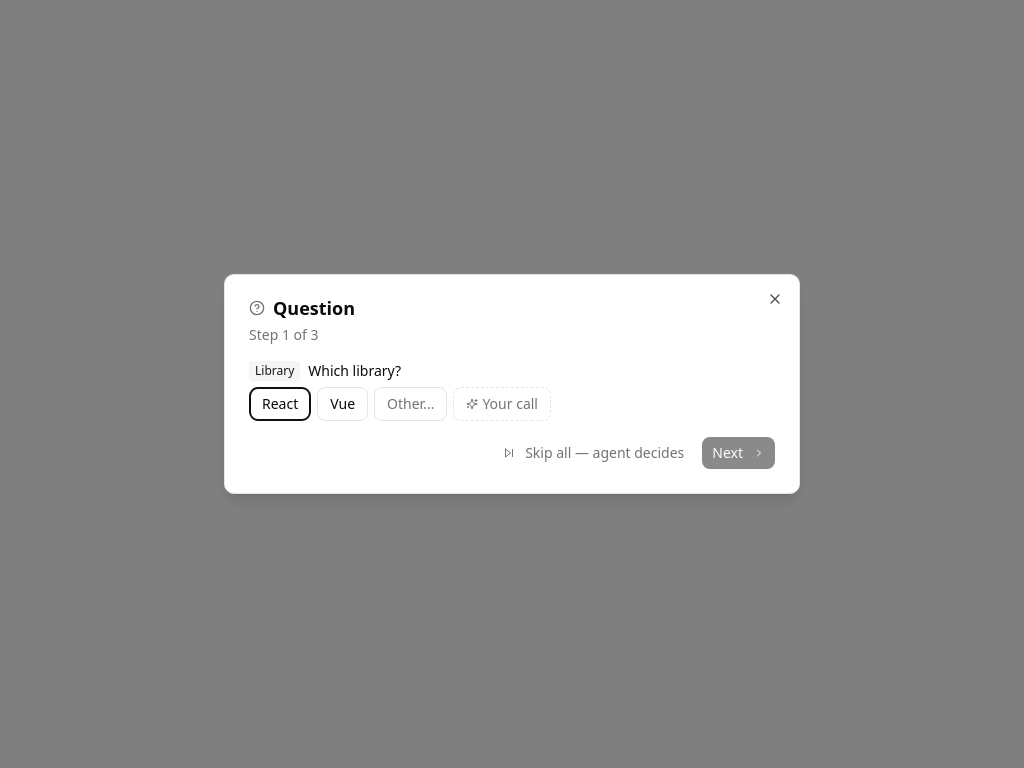
Scenario: AskUserDialog › wizard mode (3+ questions) › Next button is disabled until question is answered
The image size is (1024, 768).
Expected: the button "Next" is disabled, [702, 437, 775, 469]
Click the button "React".
click(280, 404)  # box [249, 387, 311, 421]
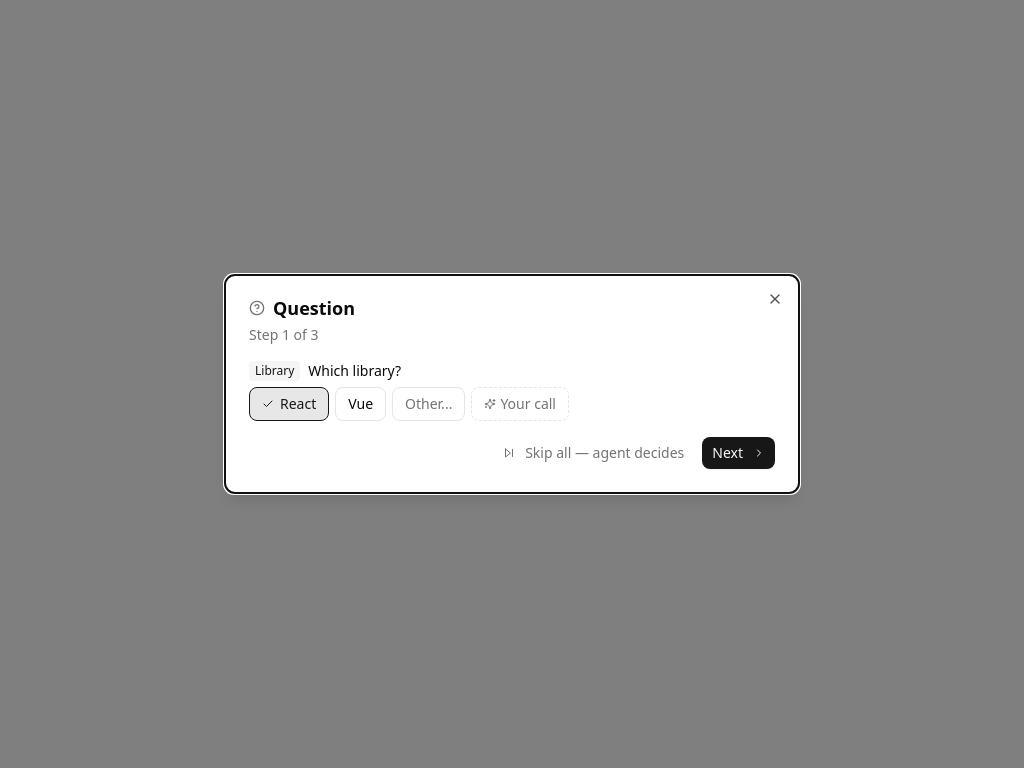
Now the button "Next" is enabled, box [702, 437, 775, 469]
